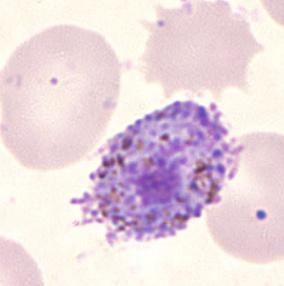Infected: (68, 98, 244, 248)
Uninfected: (0, 22, 121, 170), (137, 5, 263, 102), (204, 130, 284, 264)
